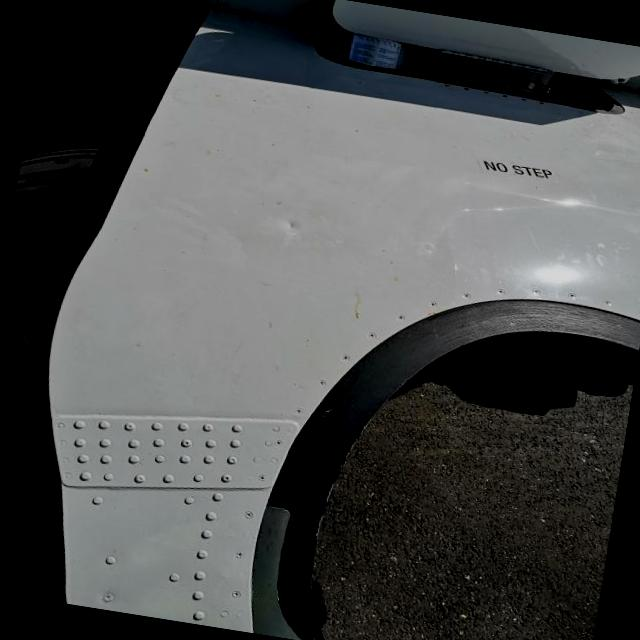dent: (270, 200, 316, 242)
